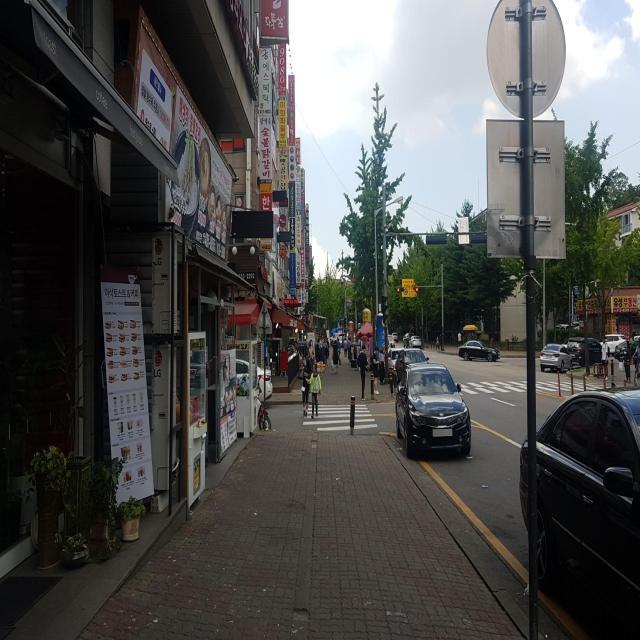횡단보도: (302, 404, 378, 432), (460, 378, 608, 392)
